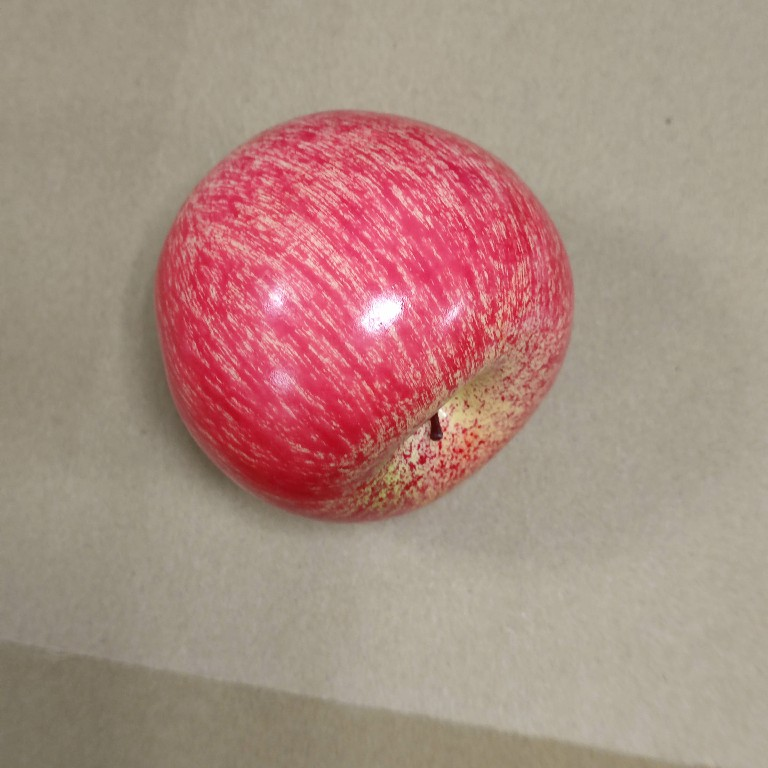fruit_apple: (148, 105, 581, 530)
